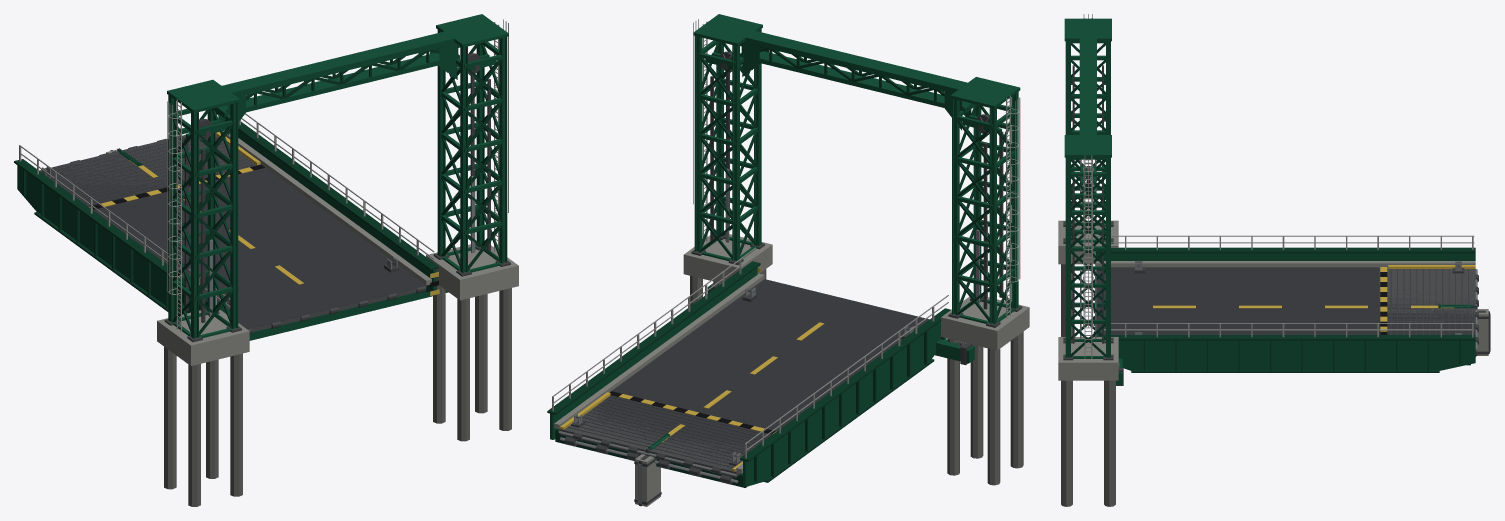
File: slip_mid.glb
The picture shows the model from 3 angles, left to right: view 1: azimuth 30°, elevation 25°; view 2: azimuth 150°, elevation 25°; view 3: azimuth 270°, elevation 25°; orthographic projection. The views are drawn at different scales.
Visible parts, largest first — view 1: towers, span, apron; view 2: span, towers, apron, counterweight; view 3: span, towers, apron, counterweight.
Boxes of the visible parts, box(x1,y1,x2,y2) form: towers: box(157, 14, 518, 506); span: box(14, 112, 448, 340); apron: box(39, 132, 264, 209); span: box(547, 247, 974, 487); towers: box(683, 14, 1029, 485); apron: box(558, 391, 776, 477); counterweight: box(634, 451, 661, 506); span: box(1093, 235, 1477, 385); towers: box(1058, 14, 1118, 506); apron: box(1379, 261, 1478, 350); counterweight: box(1476, 308, 1490, 355).
Bounding box in the file's own units: 24.09 × 26.95 × 30.15.
